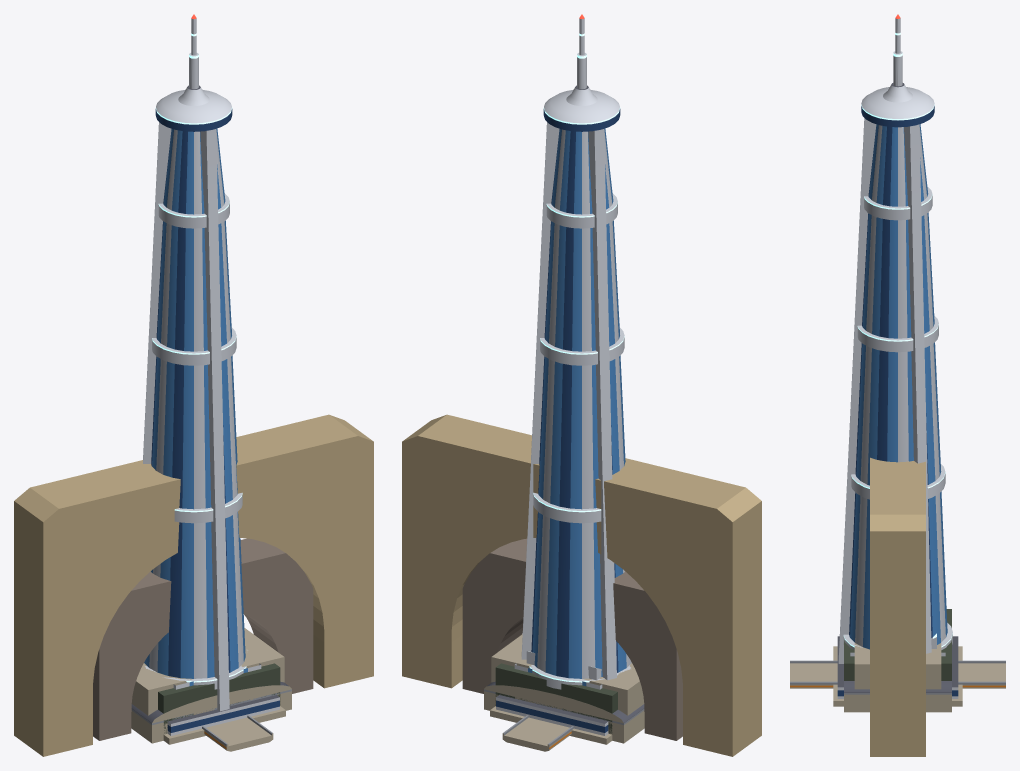
File: corneria_kit.glb
The picture shows the model from 3 angles, left to right: view 1: azimuth 30°, elevation 25°; view 2: azimuth 150°, elevation 25°; view 3: azimuth 270°, elevation 25°; orthographic projection. The views are drawn at different scales.
Parts seen in each view (by area): view 1: Kit_Landmark_Arch, Kit_City_Spire, Kit_Rock_Arch, Kit_City_Warehouse_B, Kit_Base_HQ, Kit_Base_Hangar, Kit_City_Bridge; view 2: Kit_Landmark_Arch, Kit_City_Spire, Kit_Rock_Arch, Kit_City_Warehouse_B, Kit_Base_Hangar, Kit_Base_HQ, Kit_City_Bridge; view 3: Kit_City_Spire, Kit_Landmark_Arch, Kit_City_Bridge, Kit_City_Warehouse_B, Kit_Base_HQ, Kit_Base_Hangar.
Part boxes in pixels (x1,y1,x2,y2): Kit_Landmark_Arch: (14,414,373,756); Kit_City_Spire: (143,14,285,744); Kit_Rock_Arch: (93,538,313,740); Kit_City_Warehouse_B: (131,681,291,743); Kit_Base_HQ: (131,628,284,715); Kit_Base_Hangar: (158,663,280,733); Kit_City_Bridge: (202,715,273,751); Kit_Landmark_Arch: (402,414,761,756); Kit_City_Spire: (490,14,631,744); Kit_Rock_Arch: (462,538,682,740); Kit_City_Warehouse_B: (484,681,644,743); Kit_Base_Hangar: (495,663,617,733); Kit_Base_HQ: (491,634,644,715); Kit_City_Bridge: (502,715,573,751); Kit_City_Spire: (833,14,962,706); Kit_Landmark_Arch: (870,457,925,756); Kit_City_Bridge: (790,660,1005,688); Kit_City_Warehouse_B: (844,681,951,712); Kit_Base_HQ: (854,643,941,689); Kit_Base_Hangar: (844,609,951,680).
Bounding box in the file's own units: 170 × 340 × 100.
